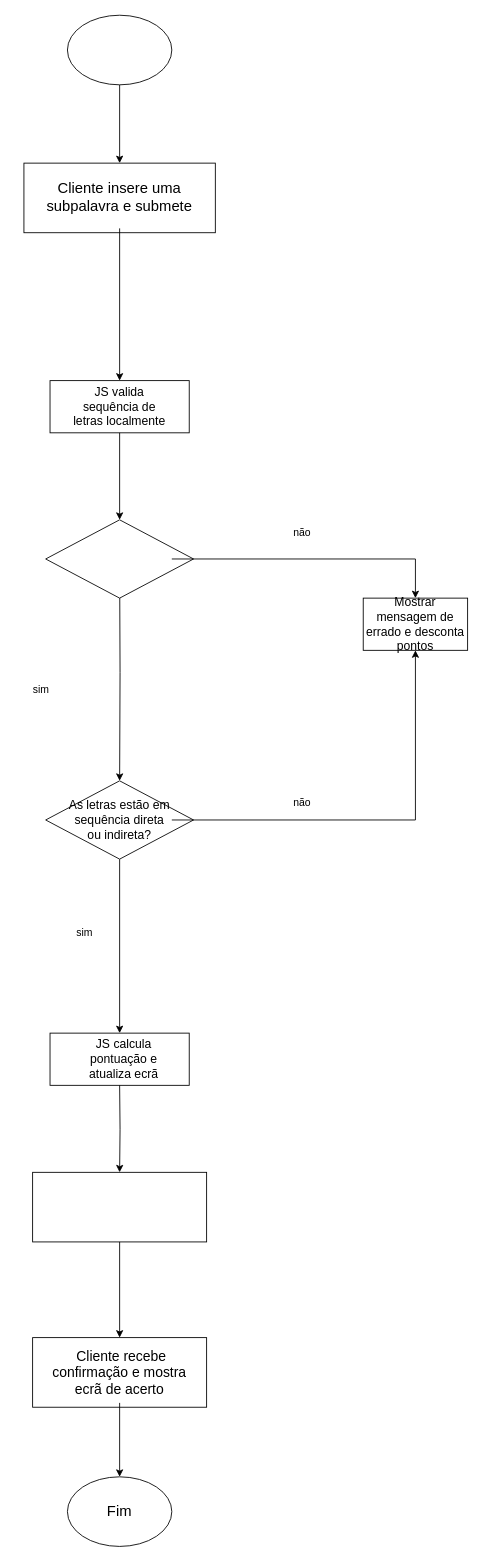
Some shapes in this 483 by 1562 pixel diagram are drawn without their labels. The box of each missing label's shape, as (x1, y1, x2, y2) in pixels:
A subpalavra consta no dicionário?: (45, 519, 194, 598)
Inicio: (67, 14, 172, 85)
JS mostra feedback visual (Acerto/Erro): (32, 1171, 207, 1242)
